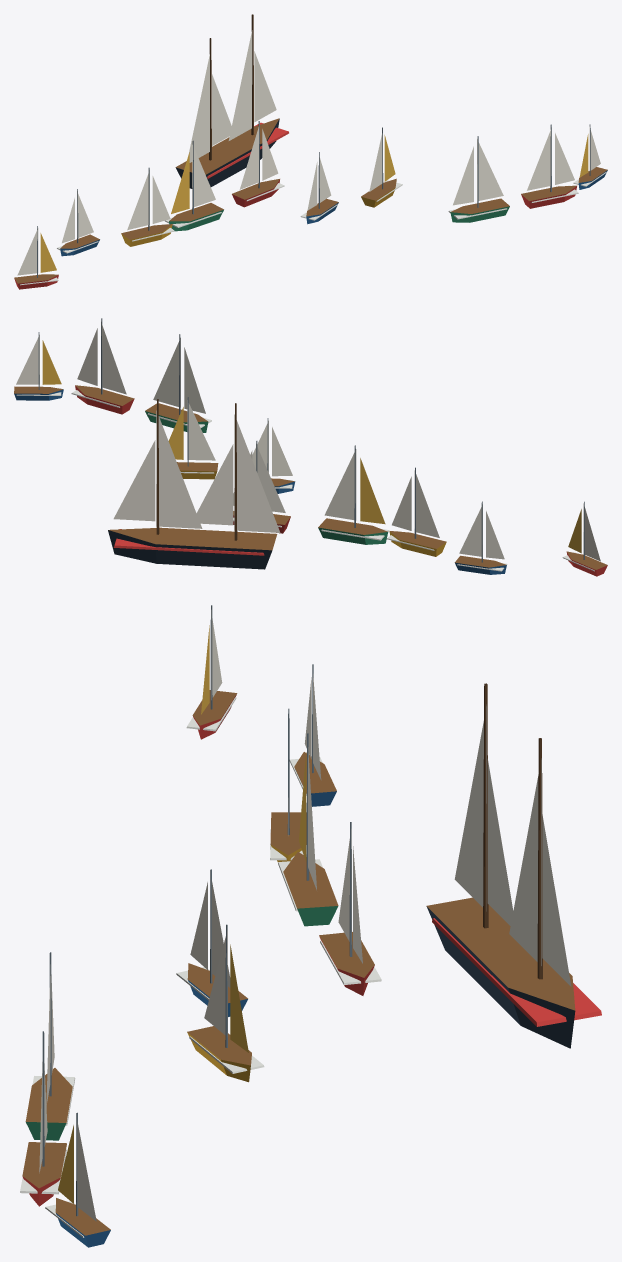
The model's file is W2_Mid_Sailboats.fbx.
3 renders of one model, top to bottom at view 1: azimuth 30°, elevation 25°; view 2: azimuth 150°, elevation 25°; view 3: azimuth 270°, elevation 25°, orthographic. The views are drawn at different scales.
Visible parts, largest first — view 1: W2_Mid_Sailboats; view 2: W2_Mid_Sailboats; view 3: W2_Mid_Sailboats.
Boxes of the visible parts, x1=… form: W2_Mid_Sailboats: x1=14, y1=14, x2=607, y2=289; W2_Mid_Sailboats: x1=14, y1=318, x2=607, y2=576; W2_Mid_Sailboats: x1=20, y1=605, x2=601, y2=1247.
Bounding box in the file's own units: 168 × 40.75 × 75.71.
